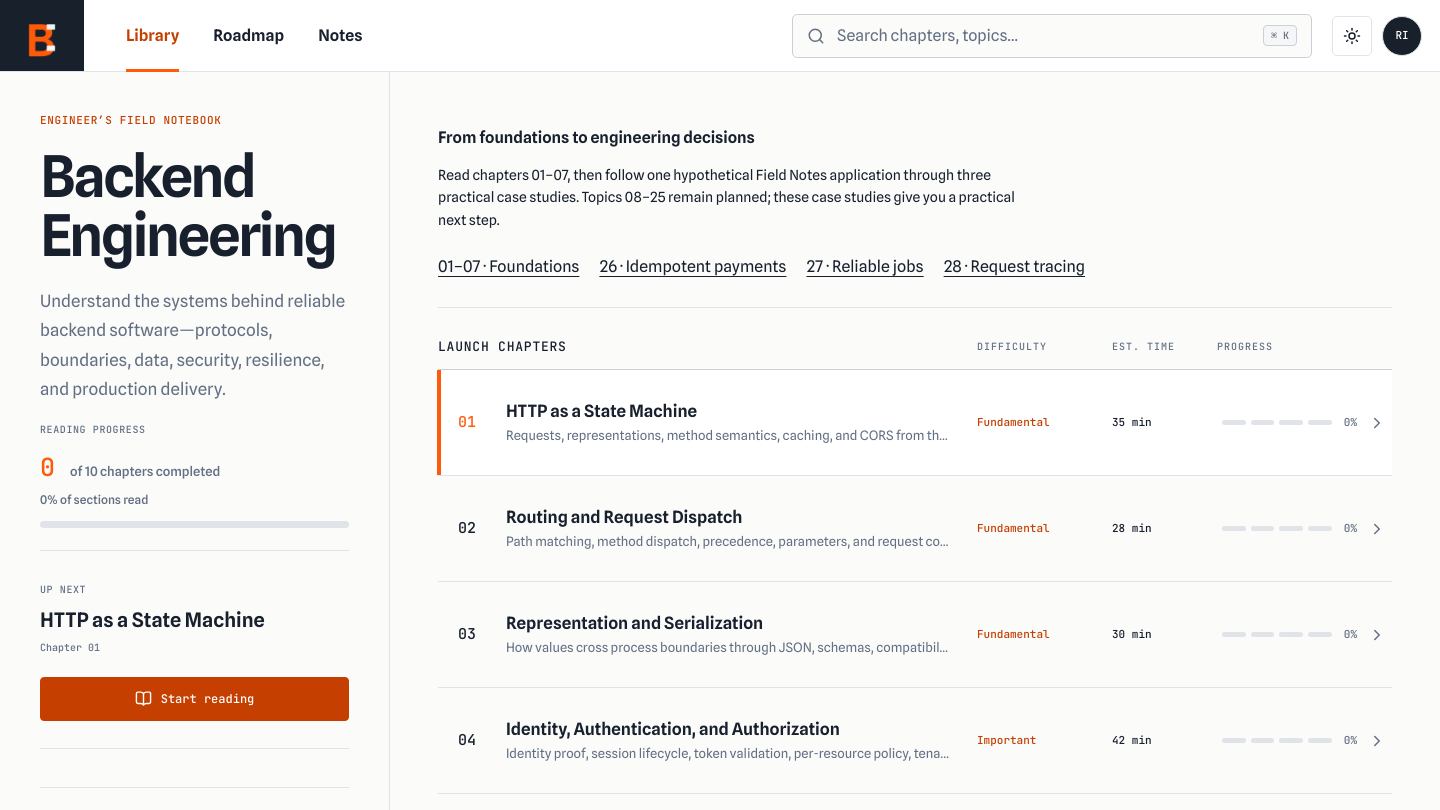
Test: Backend Engineering prototype › opens command search and finds a roadmap topic
Press k
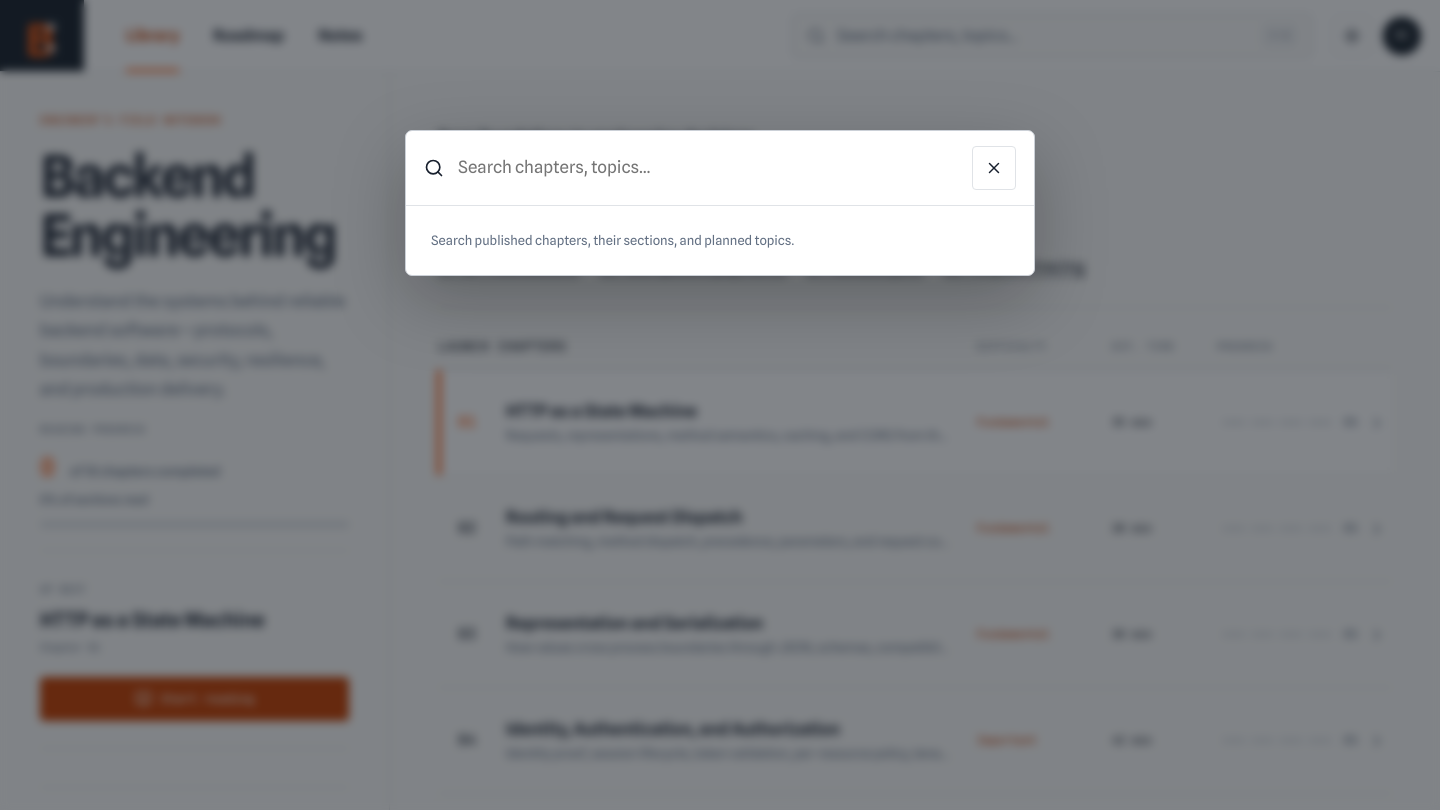
Type "Kafka" into the field named "Search chapters and topics" at x=708, y=168, box [456,154,960,181]
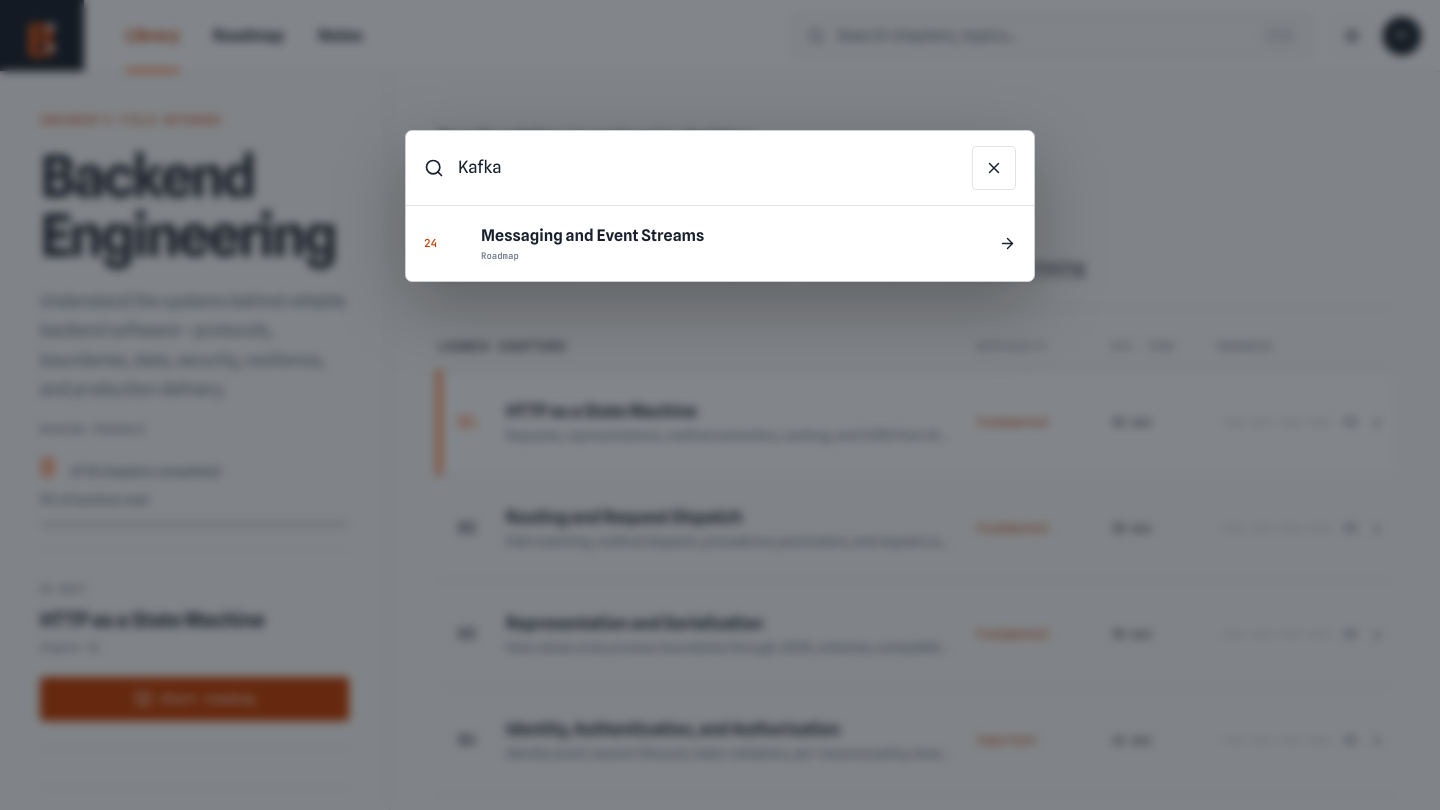
Now the button "24 Messaging and Event Streams Roadmap" is shown, box [413,213,1027,274]
